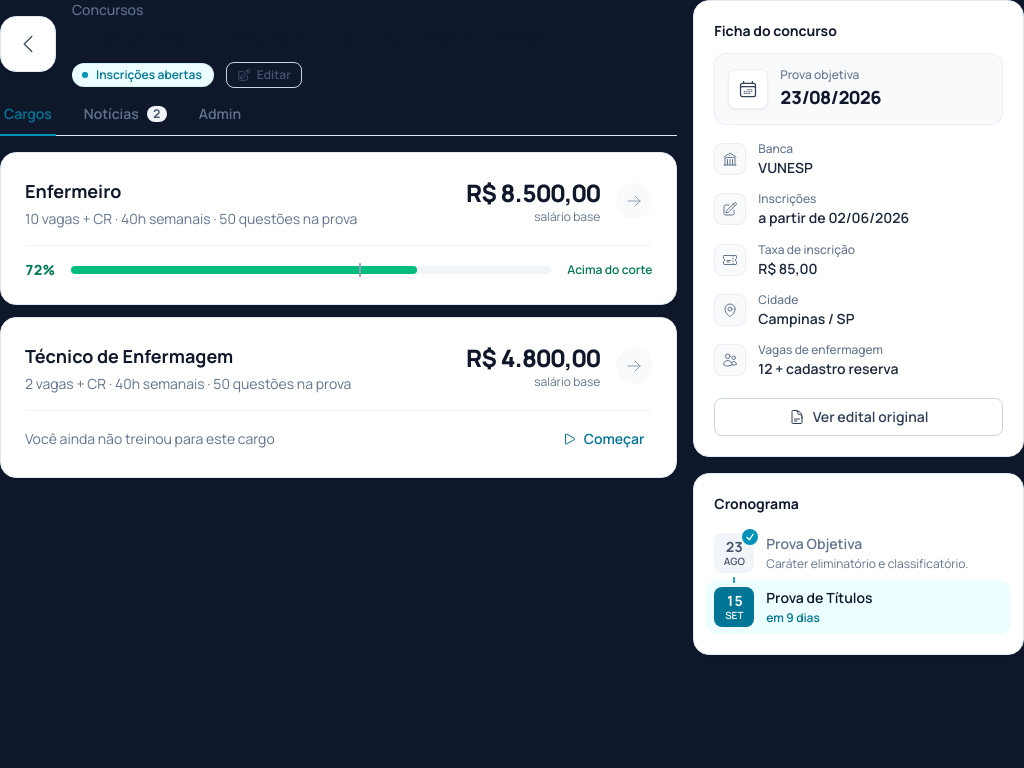
Test: página do concurso (nível 1) › candidato não verificado NÃO é salvo — o admin usa ou descarta
Click the tab "Admin".
click(220, 120)  # box [195, 104, 245, 136]
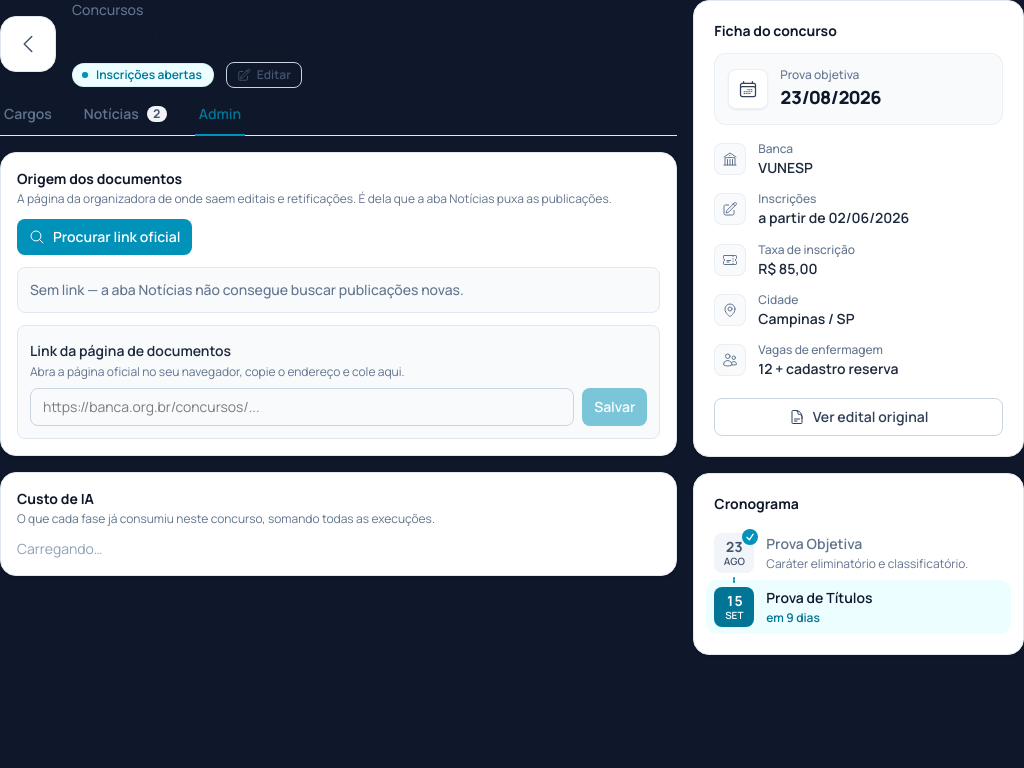
Click the button "Procurar link oficial".
click(105, 237)  # box [17, 219, 192, 255]
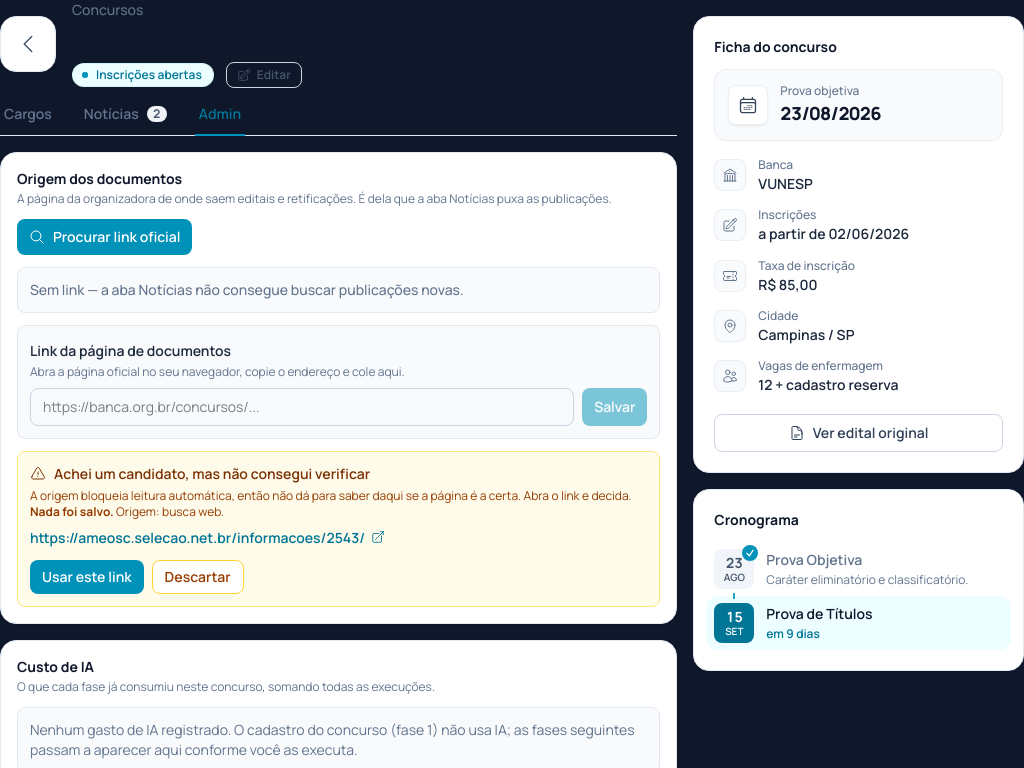
Expected: the text "Achei um candidato, mas não consegui verificar" is shown, [30, 464, 370, 483]
Expected: the text "Nada foi salvo." is shown, [30, 503, 114, 520]
Expected: the link "https://ameosc.selecao.net.br/informacoes/2543/" is shown, [30, 528, 385, 548]
Click the button "Usar este link".
click(87, 577)  # box [30, 560, 144, 594]
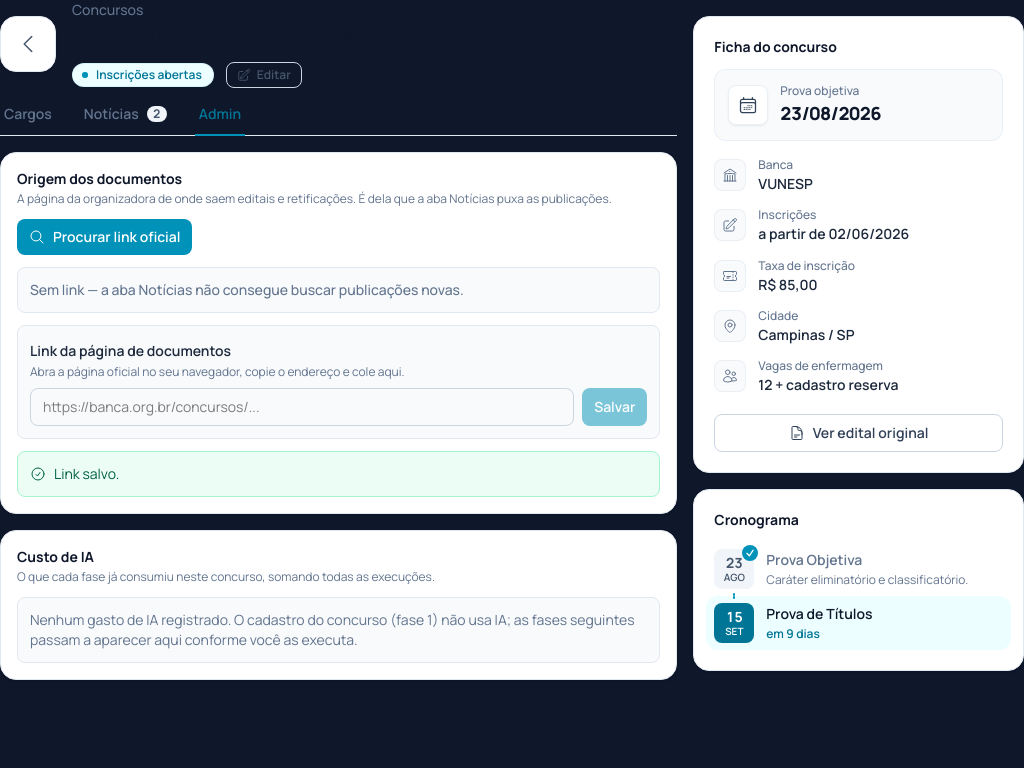
Expected: the text "Link salvo." is shown, [17, 451, 660, 497]
